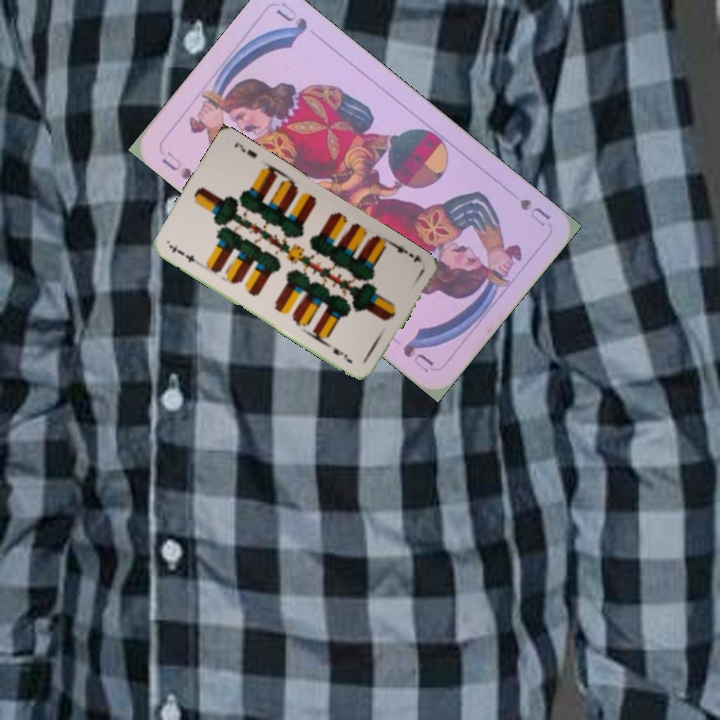E7: (388, 239, 425, 265), (165, 241, 198, 265)
SU: (157, 147, 195, 183), (515, 194, 553, 229)
